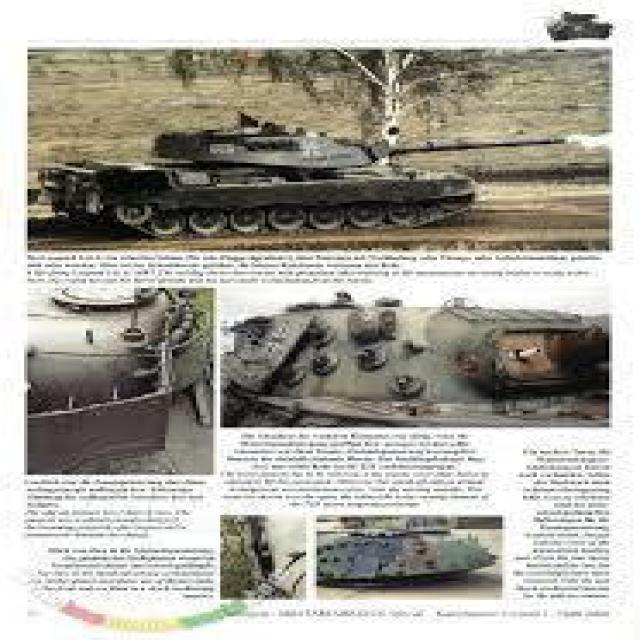Tanks: (40, 106, 562, 222), (330, 516, 482, 582)
